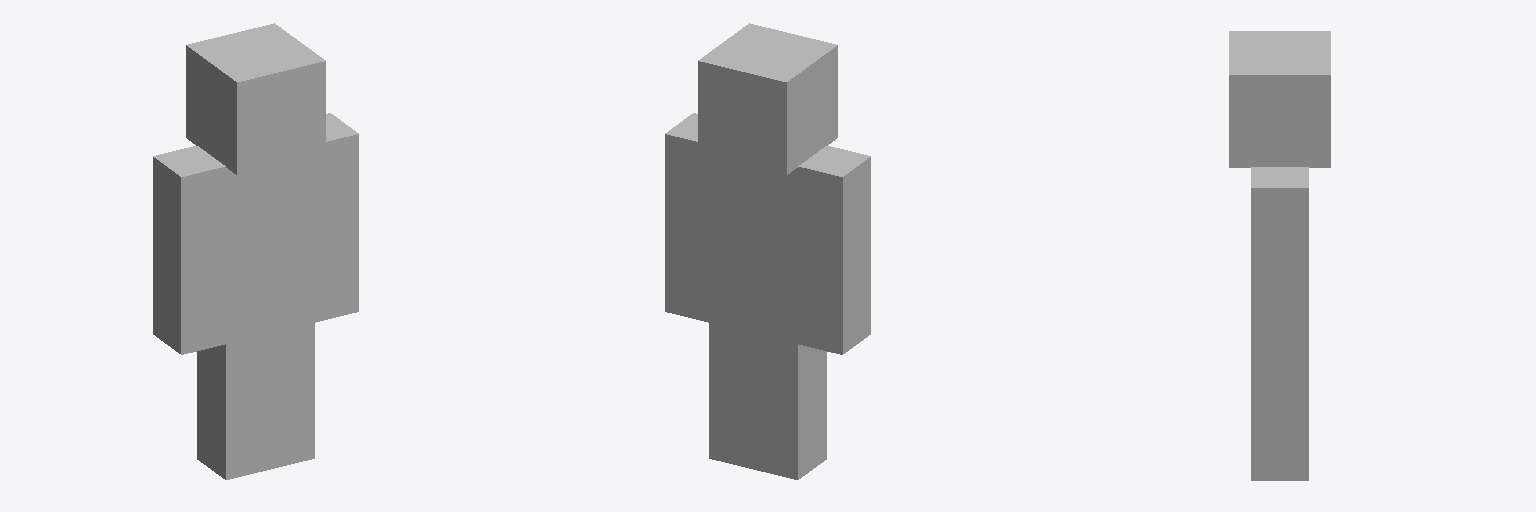
The model's file is regulus_player_model1.obj.
The picture shows the model from 3 angles: view 1: azimuth 30°, elevation 25°; view 2: azimuth 150°, elevation 25°; view 3: azimuth 270°, elevation 25°; orthographic projection.
Parts seen in each view (by area): view 1: Cube; view 2: Cube; view 3: Cube.
Part boxes in pixels (x1,y1,x2,y2): Cube: (153,23,358,479); Cube: (665,23,870,479); Cube: (1229,31,1330,480).
Size of the model in its own units: 8 by 17.46 by 4.